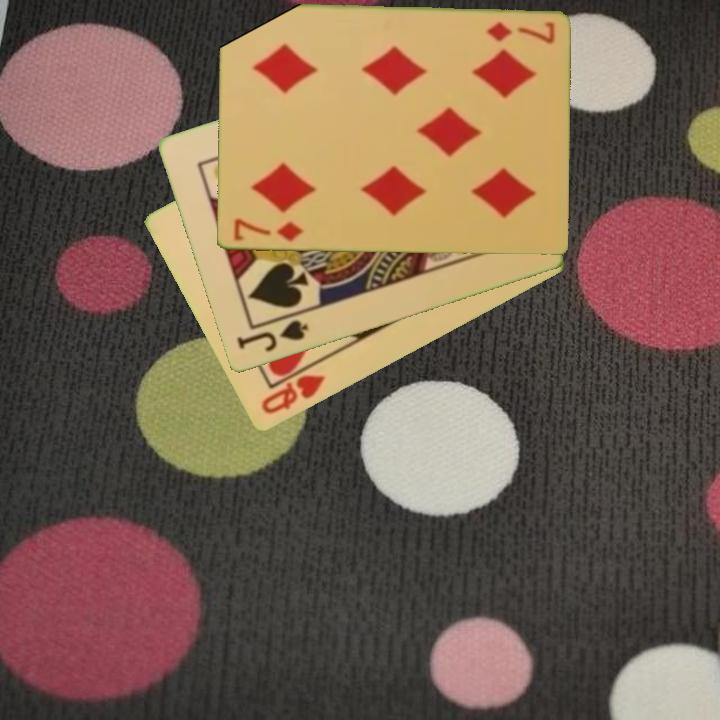7d: (229, 215, 306, 245), (483, 19, 557, 46)
Js: (233, 316, 311, 356)
Qh: (257, 359, 328, 418)
